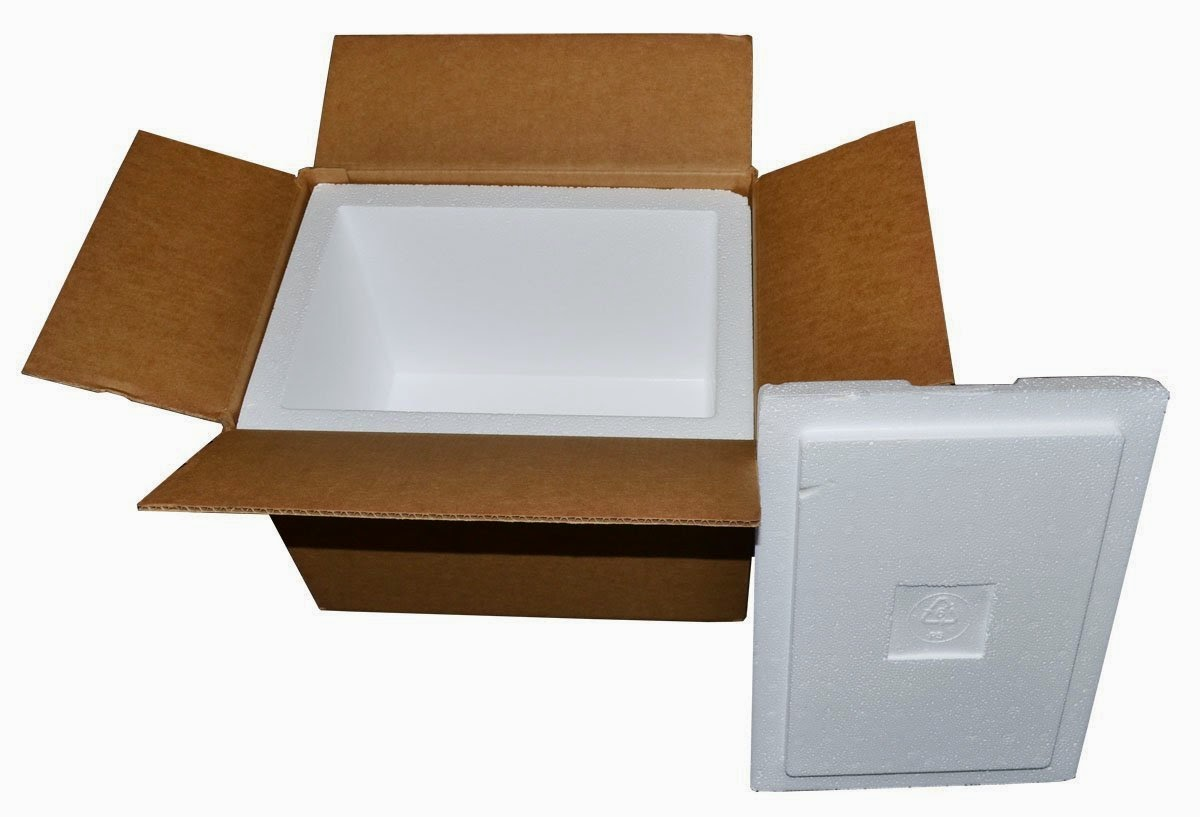泡沫箱: (238, 184, 755, 440)
